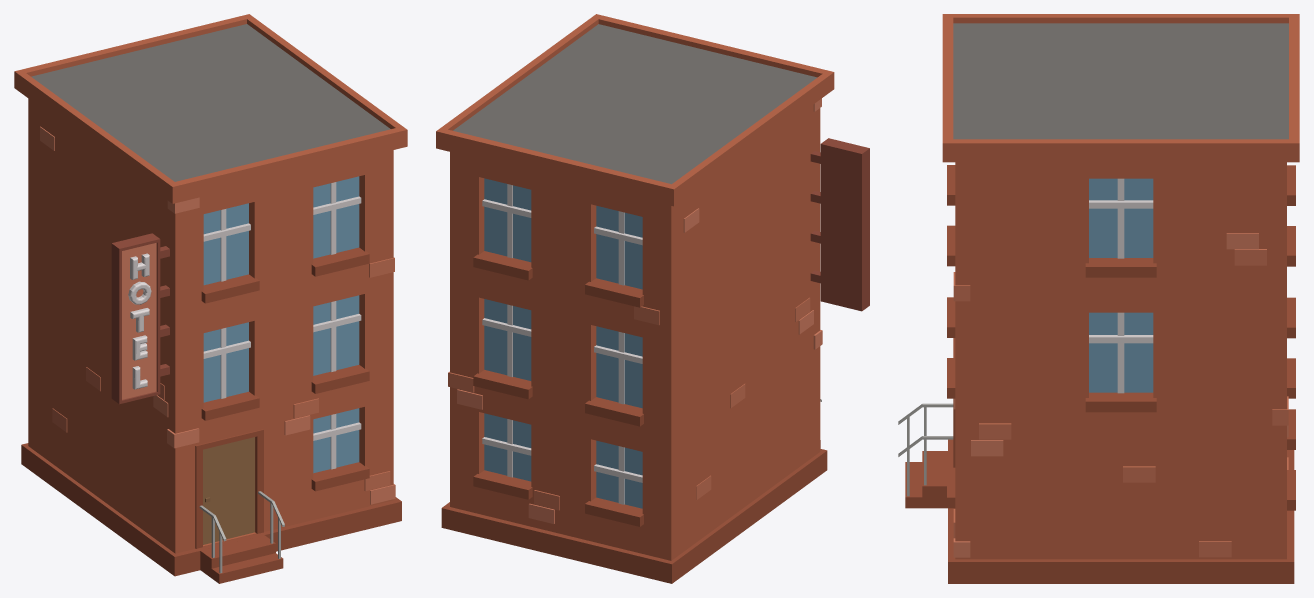
File: Hotel.fbx
3 renders of one model, left to right at view 1: azimuth 30°, elevation 25°; view 2: azimuth 150°, elevation 25°; view 3: azimuth 270°, elevation 25°, orthographic. The views are drawn at different scales.
Parts seen in each view (by area): view 1: Hotel; view 2: Hotel; view 3: Hotel.
Boxes of the visible parts, x1,y1,x2,y2 form: Hotel: [14, 14, 407, 583]; Hotel: [436, 14, 869, 583]; Hotel: [898, 14, 1299, 583].
Bounding box in the file's own units: 11.51 × 15.46 × 12.7.
